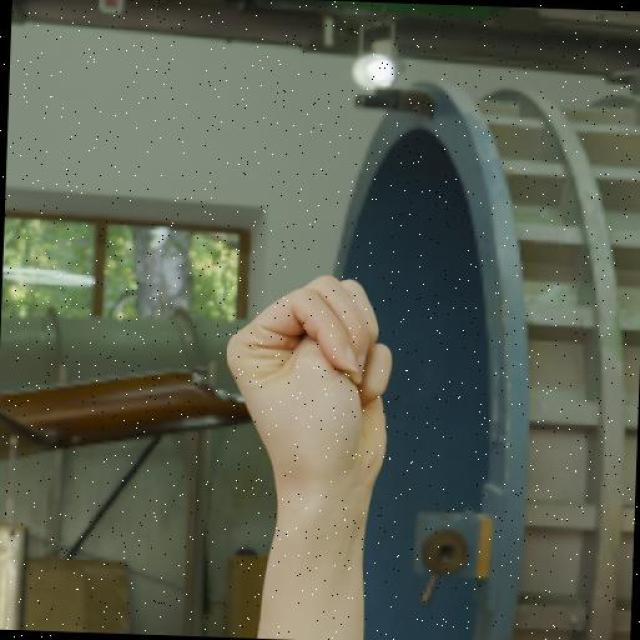M: (218, 268, 398, 492)
